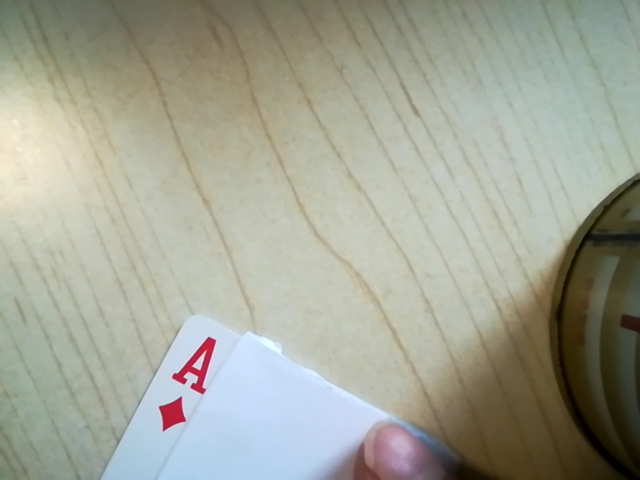fk a: (147, 335, 222, 436)
